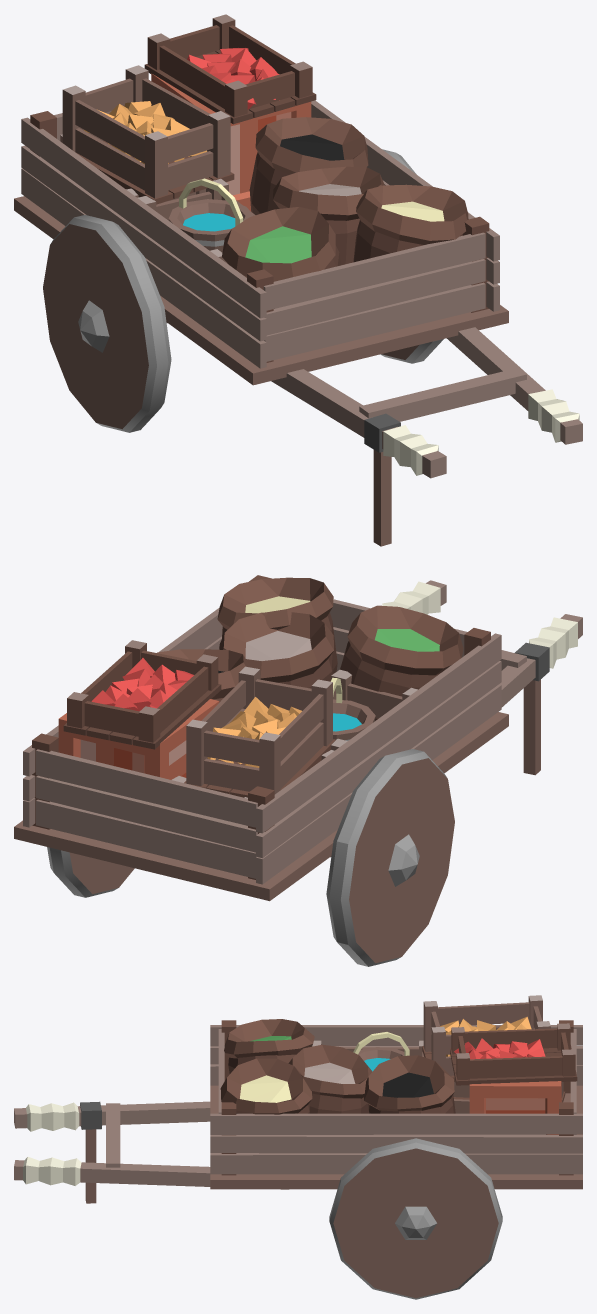
File: prop_070.fbx
3 renders of one model, top to bottom at view 1: azimuth 30°, elevation 25°; view 2: azimuth 150°, elevation 25°; view 3: azimuth 270°, elevation 25°, orthographic. The views are drawn at different scales.
Visible parts, largest first — view 1: prop.070; view 2: prop.070; view 3: prop.070.
Boxes of the visible parts, bbox=[...] form: prop.070: bbox=[14, 14, 582, 546]; prop.070: bbox=[14, 575, 582, 966]; prop.070: bbox=[14, 995, 582, 1299].
Size of the model in its own units: 394 by 315 by 740.
Materials: 1 (1 with a texture image).
